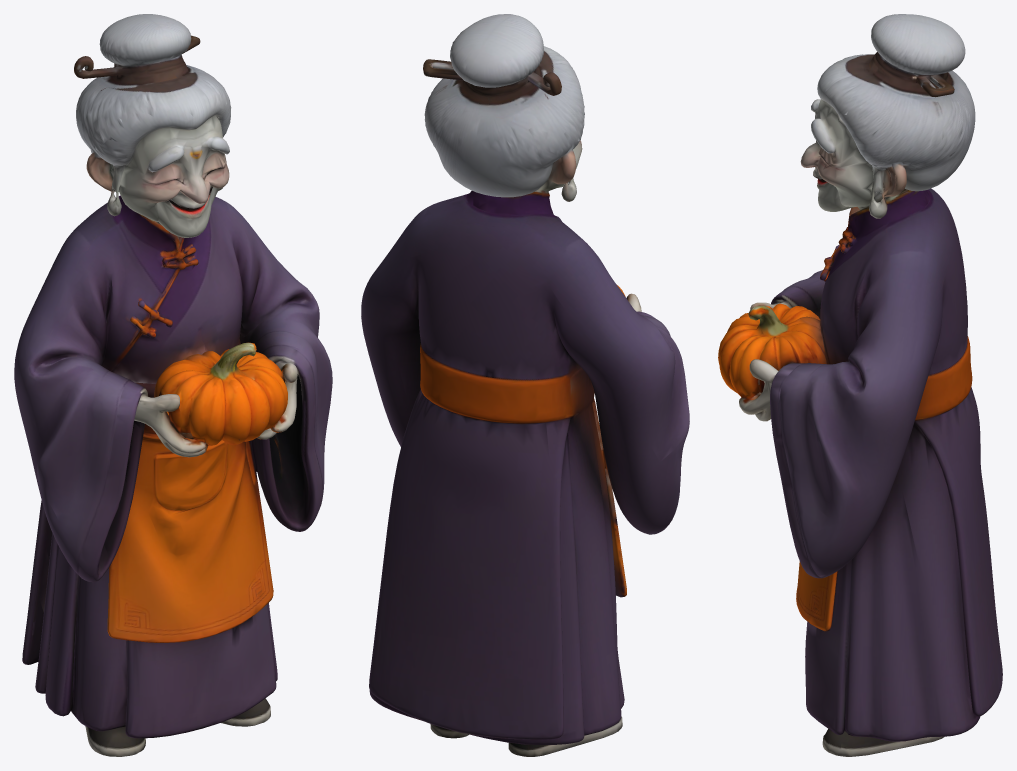
The model's file is meng-po.glb.
The picture shows the model from 3 angles, left to right: view 1: azimuth 30°, elevation 25°; view 2: azimuth 150°, elevation 25°; view 3: azimuth 270°, elevation 25°; orthographic projection. The views are drawn at different scales.
Visible parts, largest first — view 1: node_0; view 2: node_0; view 3: node_0.
Part boxes in pixels (x1,y1,x2,y2): node_0: (14,14,332,756); node_0: (361,14,689,756); node_0: (718,14,1002,756).
Size of the model in its own units: 0.5173 by 1.16 by 0.4312.
1 material, 1 textured.
